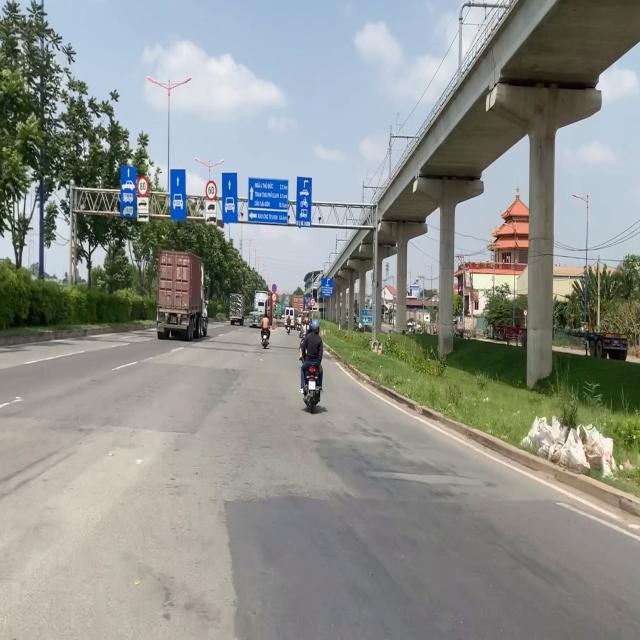Cam con lai: (310, 296, 315, 308), (272, 294, 276, 302)
Cam dung va do: (272, 284, 276, 292)
Toc do toi da: (205, 180, 218, 200), (137, 175, 148, 198)
